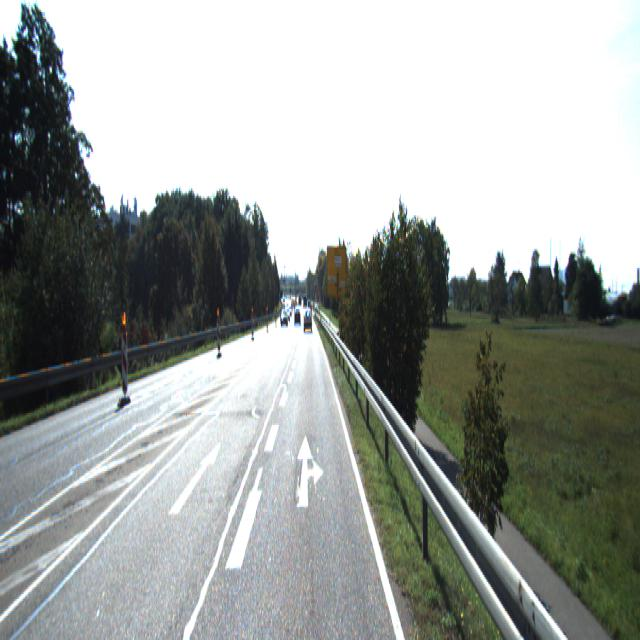Car: (304, 310, 312, 332)
